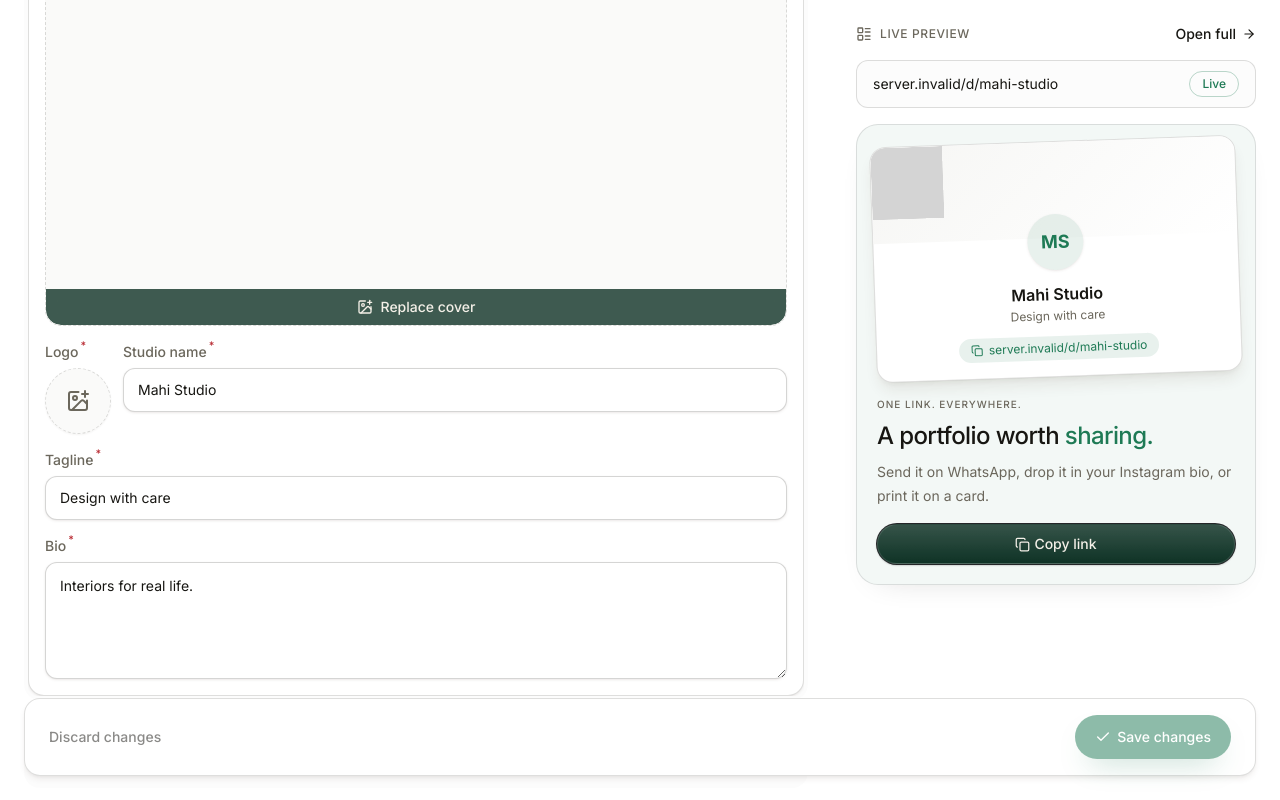
Scenario: DesignerPortfolioSettings › opens a compact square drop zone when an empty logo is selected
The width and height of the screenshot is (1280, 800).
(page scrolled)
Click the button named "Upload logo". click: (78, 401)
box: [46,369,110,433]
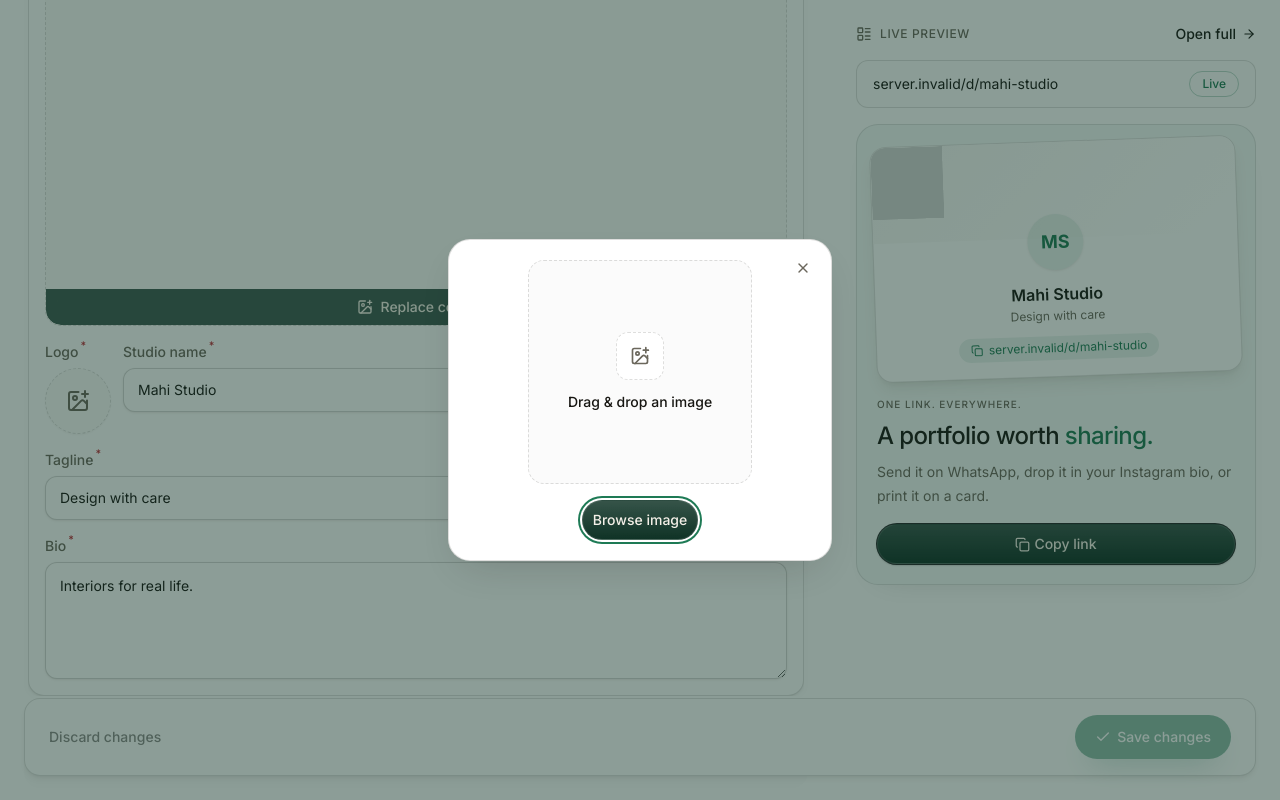
Check: the dialog named "Upload logo" is shown, box [448,239,832,561]
